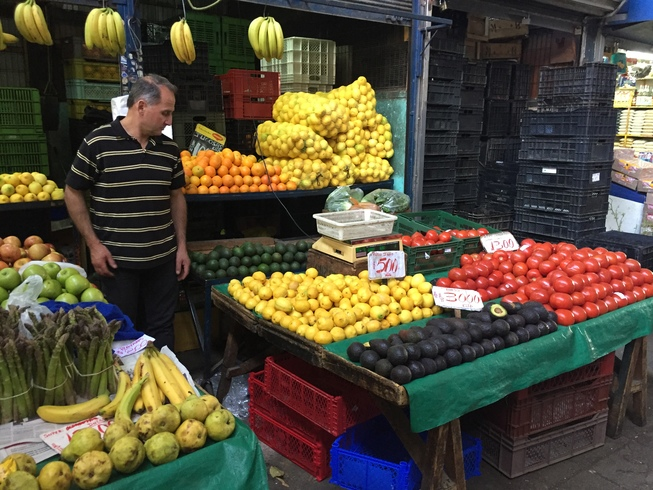precio: (428, 282, 488, 313), (480, 228, 523, 262), (366, 249, 409, 281)
